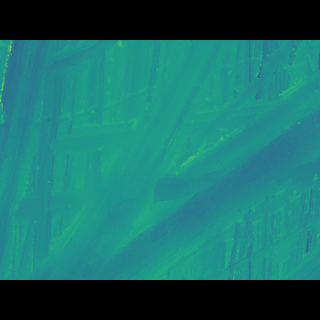Loch: (27, 96, 320, 250), (158, 69, 303, 177)
